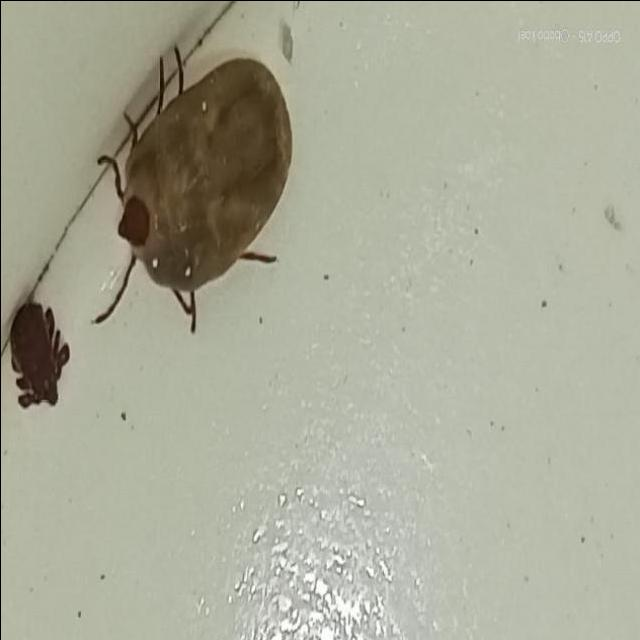Rhipicephalus Sanguineus-F-Fed: (90, 45, 292, 333)
